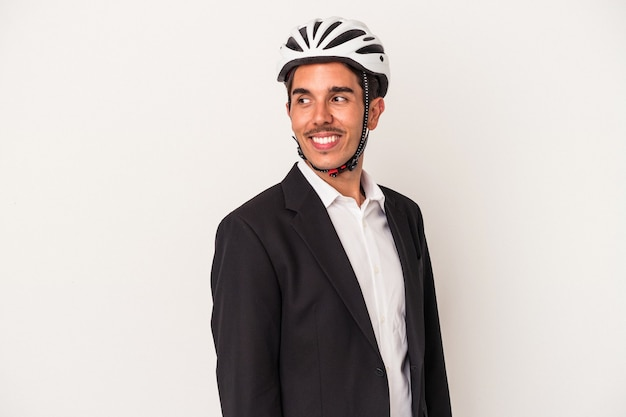helmet: (277, 15, 389, 176)
